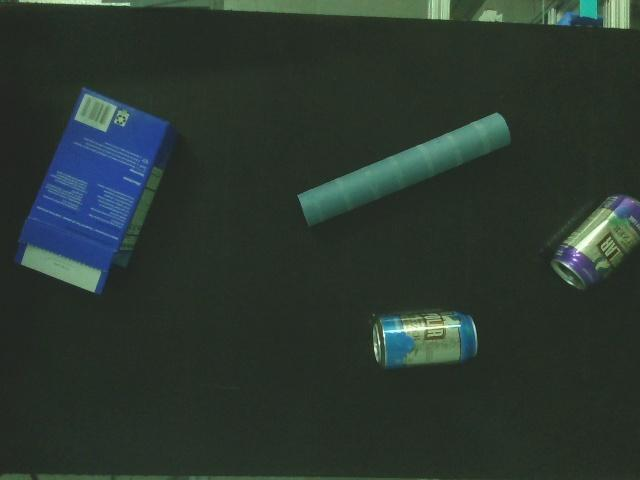cardboard: (13, 83, 180, 299), (297, 109, 513, 230)
metal: (549, 190, 640, 294), (371, 308, 480, 370)
